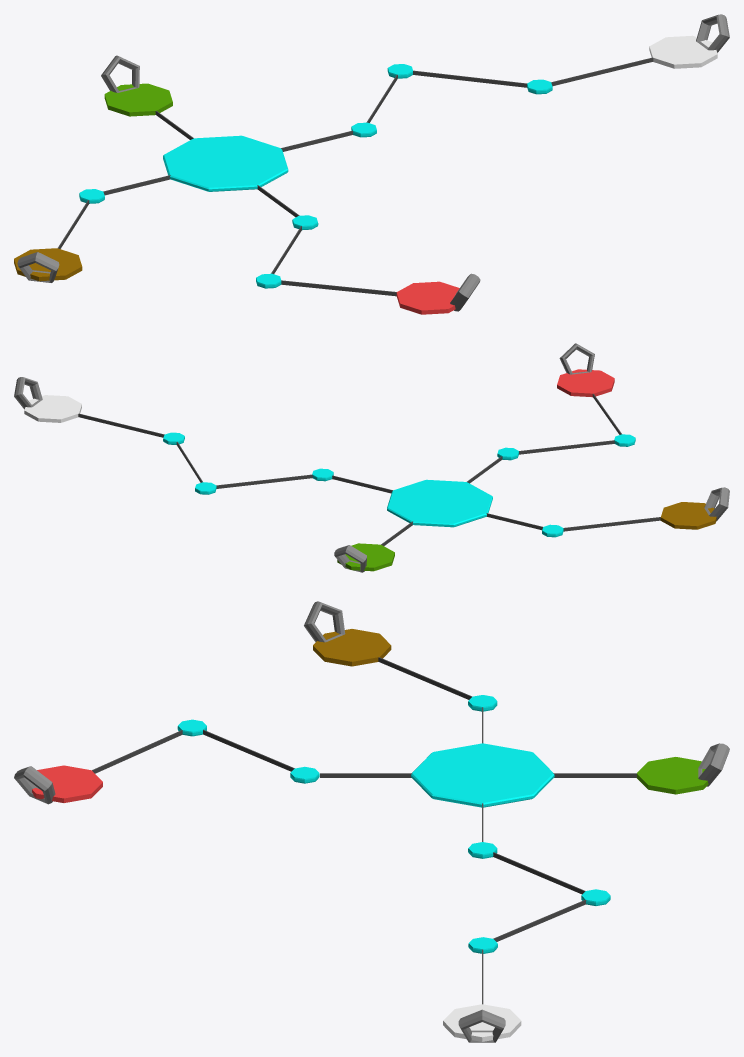
Rendered from hub_world.fbx.
3 views of the same model, one above another, from view 1: azimuth 30°, elevation 25°; view 2: azimuth 150°, elevation 25°; view 3: azimuth 270°, elevation 25° (orthographic). The views are drawn at different scales.
Parts seen in each view (by area): view 1: MAIN_HUB, pTorus6, pTorus3, pTorus5, pTorus4, node_concet_2_1, node_concet_1_4, node_concet_1_1; view 2: MAIN_HUB, pTorus6, pTorus4, pTorus5, pTorus3, node_concet_3_1, node_concet_1_3, node_concet_2_3; view 3: MAIN_HUB, pTorus4, pTorus3, pTorus5, pTorus6.
Part boxes in pixels (x1,y1,x2,y2): MAIN_HUB: (163, 135, 288, 191); pTorus6: (649, 14, 729, 68); pTorus3: (101, 55, 172, 116); pTorus5: (396, 273, 480, 314); pTorus4: (14, 248, 82, 282); node_concet_2_1: (281, 280, 396, 296); node_concet_1_4: (413, 70, 527, 87); node_concet_1_1: (551, 57, 653, 86); MAIN_HUB: (387, 479, 492, 527); pTorus6: (14, 377, 81, 422); pTorus4: (660, 487, 729, 529); pTorus5: (557, 343, 614, 397); pTorus3: (334, 543, 394, 572); node_concet_3_1: (563, 517, 660, 531); node_concet_1_3: (216, 474, 312, 488); node_concet_2_3: (519, 440, 614, 454); MAIN_HUB: (411, 743, 554, 807); pTorus4: (304, 601, 391, 666); pTorus3: (637, 743, 729, 794); pTorus5: (14, 765, 102, 804); pTorus6: (443, 1004, 521, 1042).
Bounding box in the file's own units: 78.63 × 3.3 × 56.77.
